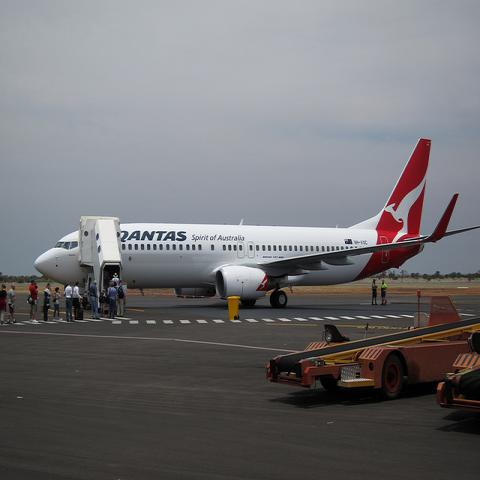truck: (268, 285, 480, 401)
